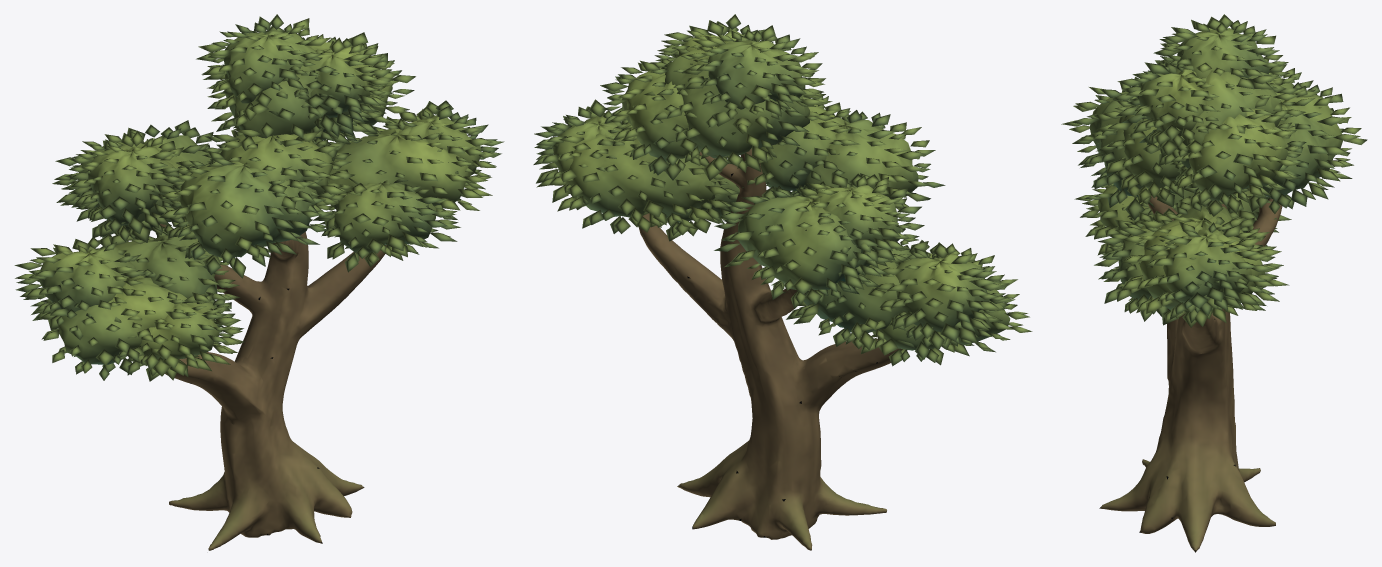
Rendered from windswept-elder.glb.
3 renders of one model, left to right at view 1: azimuth 30°, elevation 25°; view 2: azimuth 150°, elevation 25°; view 3: azimuth 270°, elevation 25°, orthographic. The views are drawn at different scales.
Parts seen in each view (by area): view 1: Windswept elder — original refinement; view 2: Windswept elder — original refinement; view 3: Windswept elder — original refinement.
Boxes of the visible parts, left/top/right/bottom form: Windswept elder — original refinement: left=14, top=14, right=504, bottom=550; Windswept elder — original refinement: left=533, top=14, right=1032, bottom=550; Windswept elder — original refinement: left=1061, top=14, right=1367, bottom=552.
Bounding box in the file's own units: 6.21 × 6.09 × 3.42.
1 material, 1 textured.
